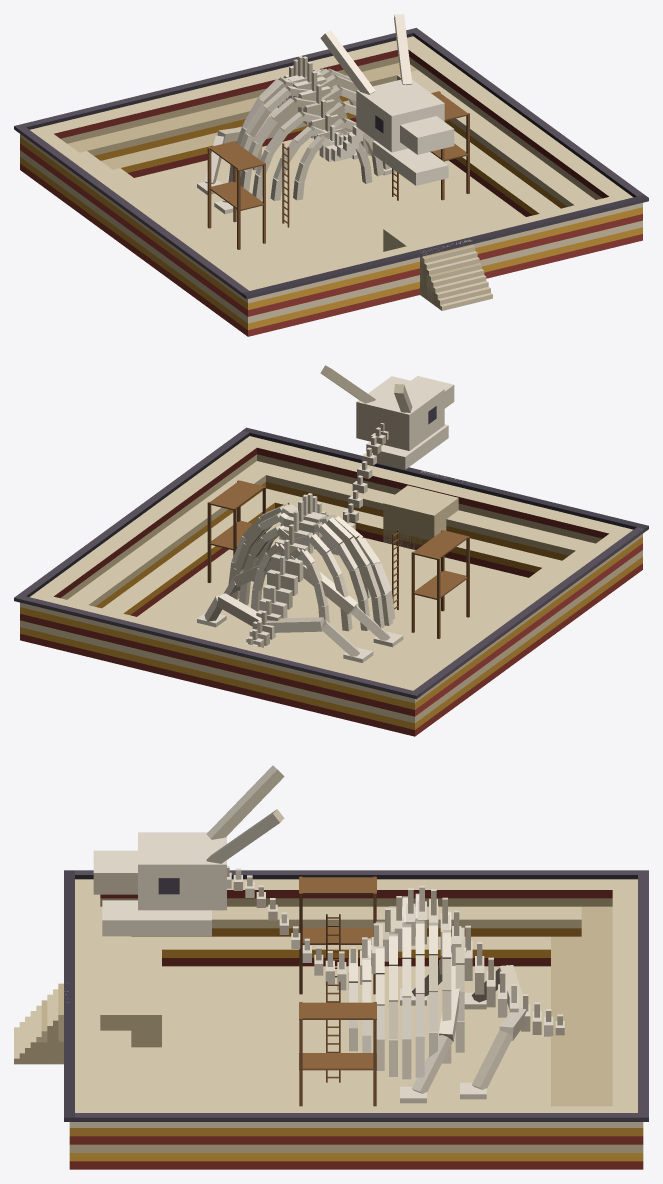
Rendered from landmark.glb.
3 views of the same model, one above another, from view 1: azimuth 30°, elevation 25°; view 2: azimuth 150°, elevation 25°; view 3: azimuth 270°, elevation 25° (orthographic). The views are drawn at different scales.
Visible parts, largest first — view 1: skeleton; view 2: skeleton; view 3: skeleton.
Boxes of the visible parts, left/top/right/bottom form: skeleton: left=14, top=14, right=648, bottom=336; skeleton: left=14, top=365, right=648, bottom=736; skeleton: left=14, top=765, right=648, bottom=1169.
Size of the model in its own units: 63.2 by 30.89 by 68.6.
1 material, 1 textured.
